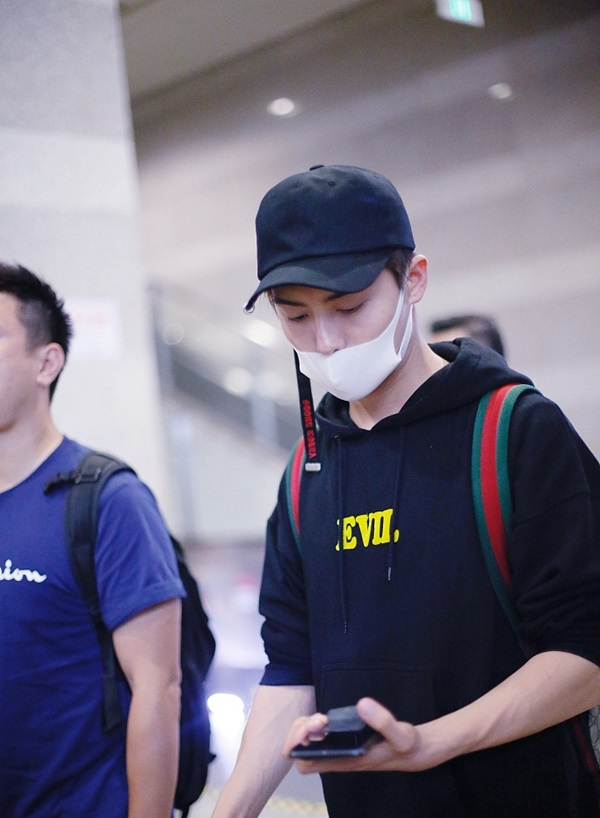face_mask: (278, 231, 402, 402)
